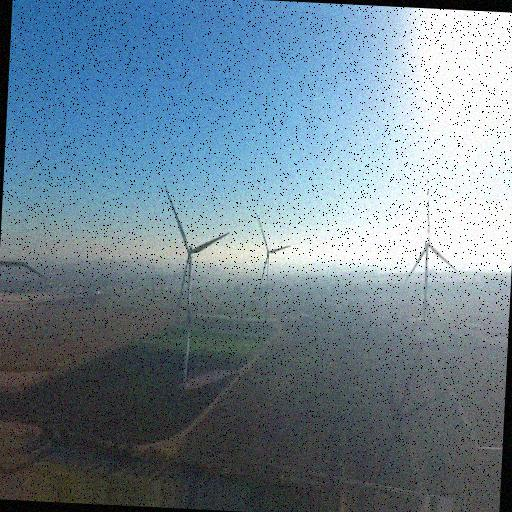wind turbine: (160, 183, 230, 381), (405, 201, 459, 309), (254, 216, 294, 317)
